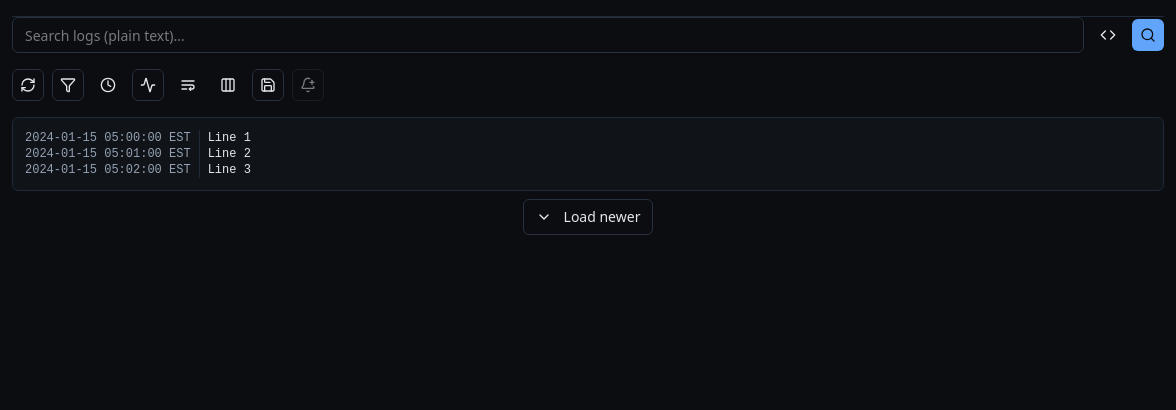
Test: LogsExplorerBody (surrounding mode) › enters surrounding mode and renders surrounding lines
# Click first normal line
Click the button with test id "log-row" showing "2024-01-15 05:00:00 EST Line 1".
click(138, 138)  # box [25,130,251,146]
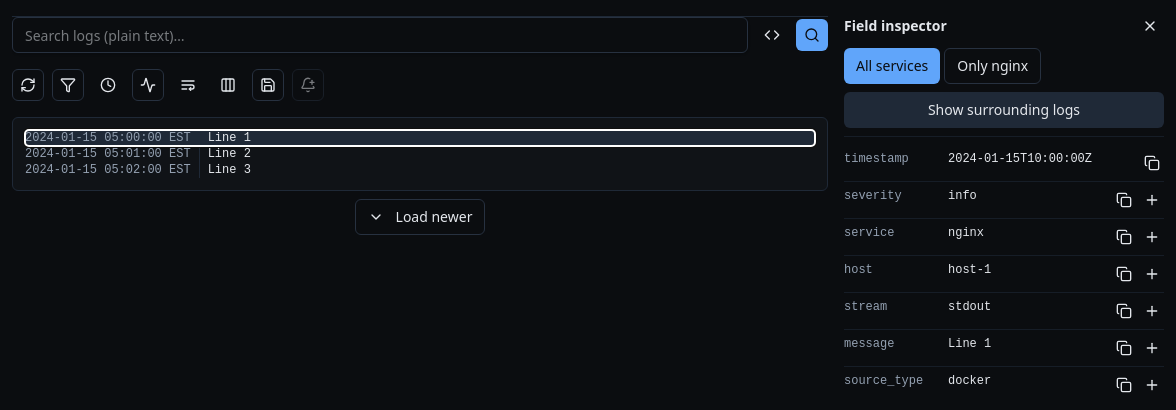
Check: the button with test id "show-surrounding-logs" is shown
# Click show-surrounding-logs
Click the button with test id "show-surrounding-logs".
click(1004, 110)  # box [844,92,1164,128]
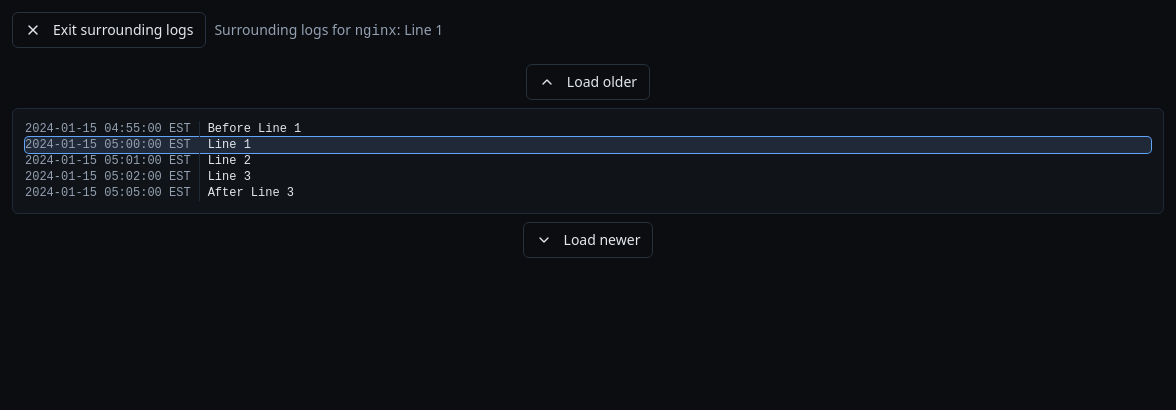
Check: the element with test id "surrounding-mode-bar" is shown, box [12,12,443,48]
Check: the field with test id "logs-search-input" is gone
Check: the text "Before Line 1" is shown, box [208,122,301,136]
